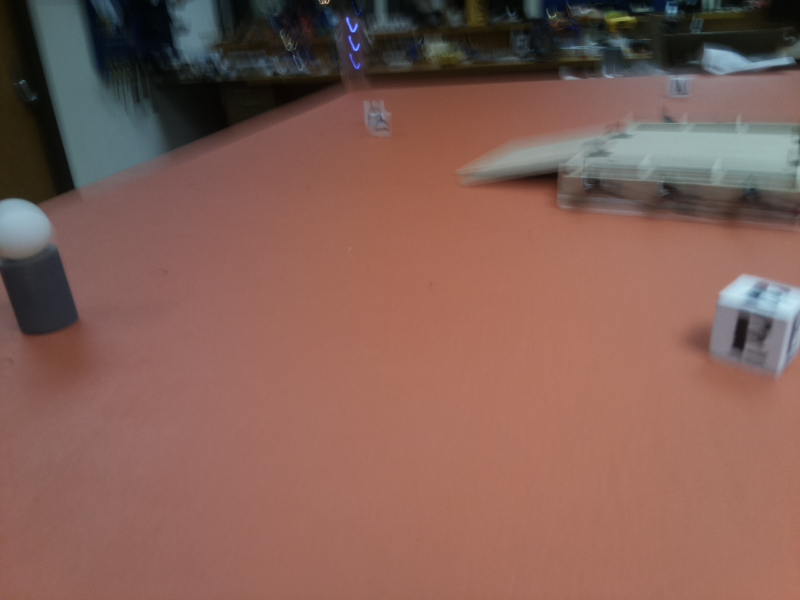blockA: (665, 74, 691, 96)
blockD: (365, 107, 391, 135)
blockE: (708, 270, 800, 376)
corner: (339, 17, 367, 92)
obstacle: (2, 196, 79, 335)
side: (554, 167, 800, 227), (614, 115, 800, 130)
slope: (455, 132, 587, 182)
